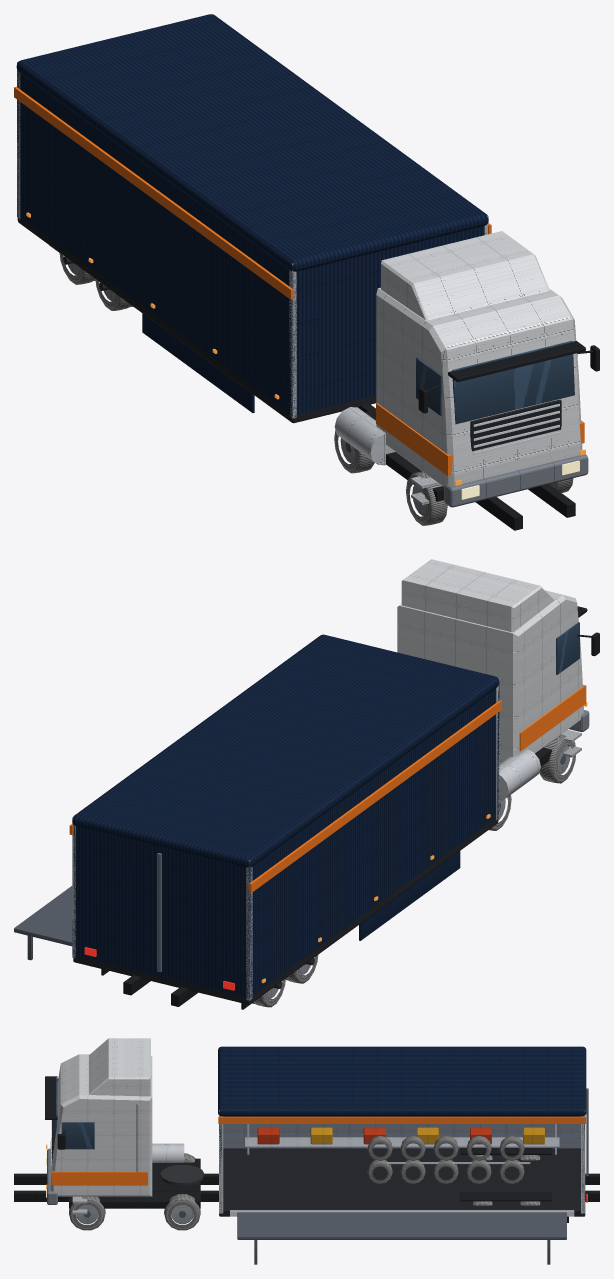
File: caminhao_de_servico.glb
3 renders of one model, top to bottom at view 1: azimuth 30°, elevation 25°; view 2: azimuth 150°, elevation 25°; view 3: azimuth 270°, elevation 25°, orthographic. The views are drawn at different scales.
Visible parts, largest first — view 1: caminhao_de_servico, caminhao_de_servico_metal; view 2: caminhao_de_servico, caminhao_de_servico_metal; view 3: caminhao_de_servico, caminhao_de_servico_metal.
Part boxes in pixels (x1,y1,x2,y2): caminhao_de_servico: [14, 14, 599, 525]; caminhao_de_servico_metal: [17, 62, 588, 530]; caminhao_de_servico: [14, 606, 599, 1009]; caminhao_de_servico_metal: [72, 559, 589, 1006]; caminhao_de_servico: [45, 1046, 588, 1264]; caminhao_de_servico_metal: [14, 1038, 599, 1224].
Size of the model in its own units: 5.81 by 4.54 by 16.
Materials: 7 (5 with a texture image).
